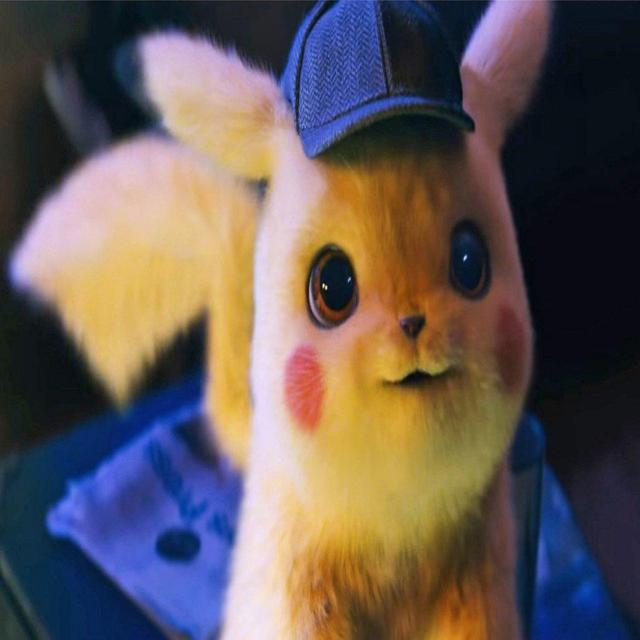pikachu: (11, 0, 553, 640)
